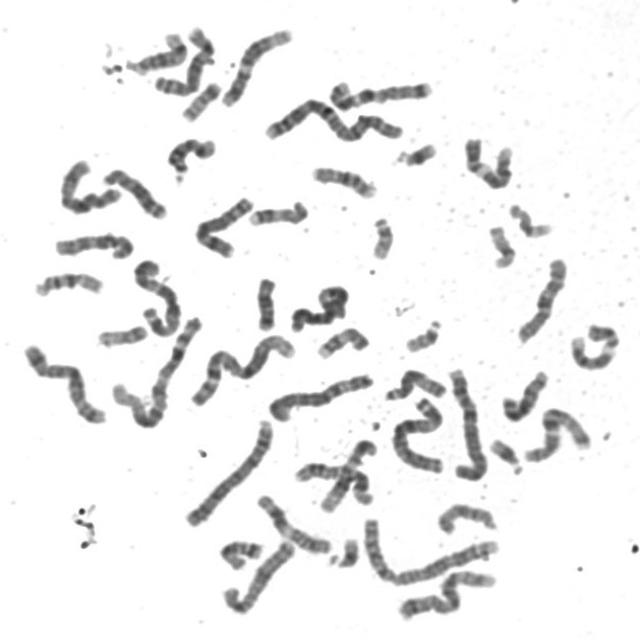A1: (106, 310, 205, 430), (183, 328, 299, 409)
A2: (357, 512, 502, 587), (257, 93, 407, 145)
A3: (386, 391, 448, 474), (128, 252, 184, 338)
B4: (178, 413, 277, 530), (442, 362, 491, 484)
B5: (15, 336, 110, 426), (392, 564, 499, 623)
C10: (511, 251, 571, 345), (48, 227, 136, 262)
C11: (250, 488, 336, 556), (288, 456, 376, 507)
C12: (215, 20, 295, 108), (314, 434, 380, 514)
C6: (262, 367, 376, 424), (287, 284, 357, 336)
C7: (518, 402, 593, 464), (324, 73, 436, 113)
C8: (148, 21, 216, 98), (188, 190, 256, 260)
C9: (457, 130, 516, 191), (564, 317, 622, 373)
D13: (96, 162, 169, 221), (496, 364, 550, 425)
D14: (121, 26, 189, 77), (161, 131, 218, 186)
D15: (378, 363, 448, 403), (432, 497, 501, 537)
E16: (305, 160, 379, 200), (27, 265, 106, 299)
E17: (310, 322, 372, 361), (243, 194, 310, 229)
E18: (212, 534, 264, 572), (249, 271, 279, 334)
F19: (502, 198, 556, 240), (483, 220, 519, 270)
F20: (175, 74, 224, 124), (90, 319, 150, 350)
G21: (484, 431, 526, 476), (392, 138, 442, 170), (321, 532, 361, 570)
G22: (398, 314, 444, 354), (364, 210, 396, 262)
X: (216, 534, 297, 616), (53, 154, 124, 216)
